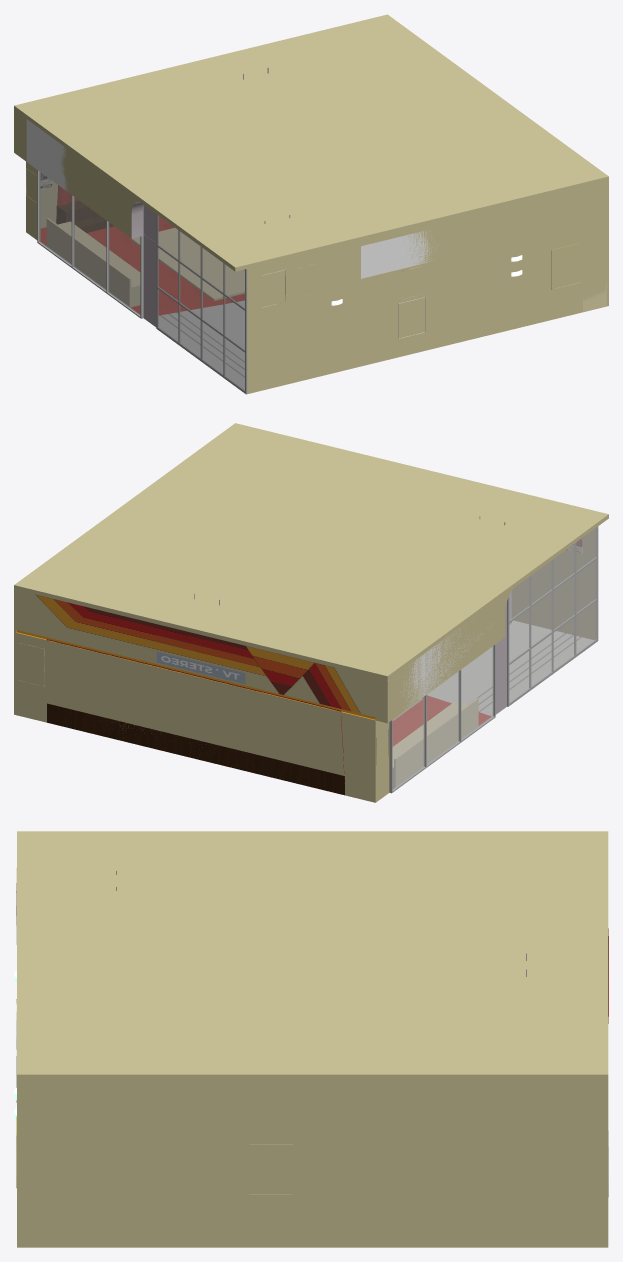
Rendered from Escenario_2.fbx.
3 renders of one model, top to bottom at view 1: azimuth 30°, elevation 25°; view 2: azimuth 150°, elevation 25°; view 3: azimuth 270°, elevation 25°, orthographic. The views are drawn at different scales.
Visible parts, largest first — view 1: Escenario_2; view 2: Escenario_2; view 3: Escenario_2.
Part boxes in pixels (<box>): Escenario_2: <box>14,14,608,394</box>; Escenario_2: <box>14,423,608,802</box>; Escenario_2: <box>14,831,608,1247</box>.
Bounding box in the file's own units: 1560 × 539 × 1610.
